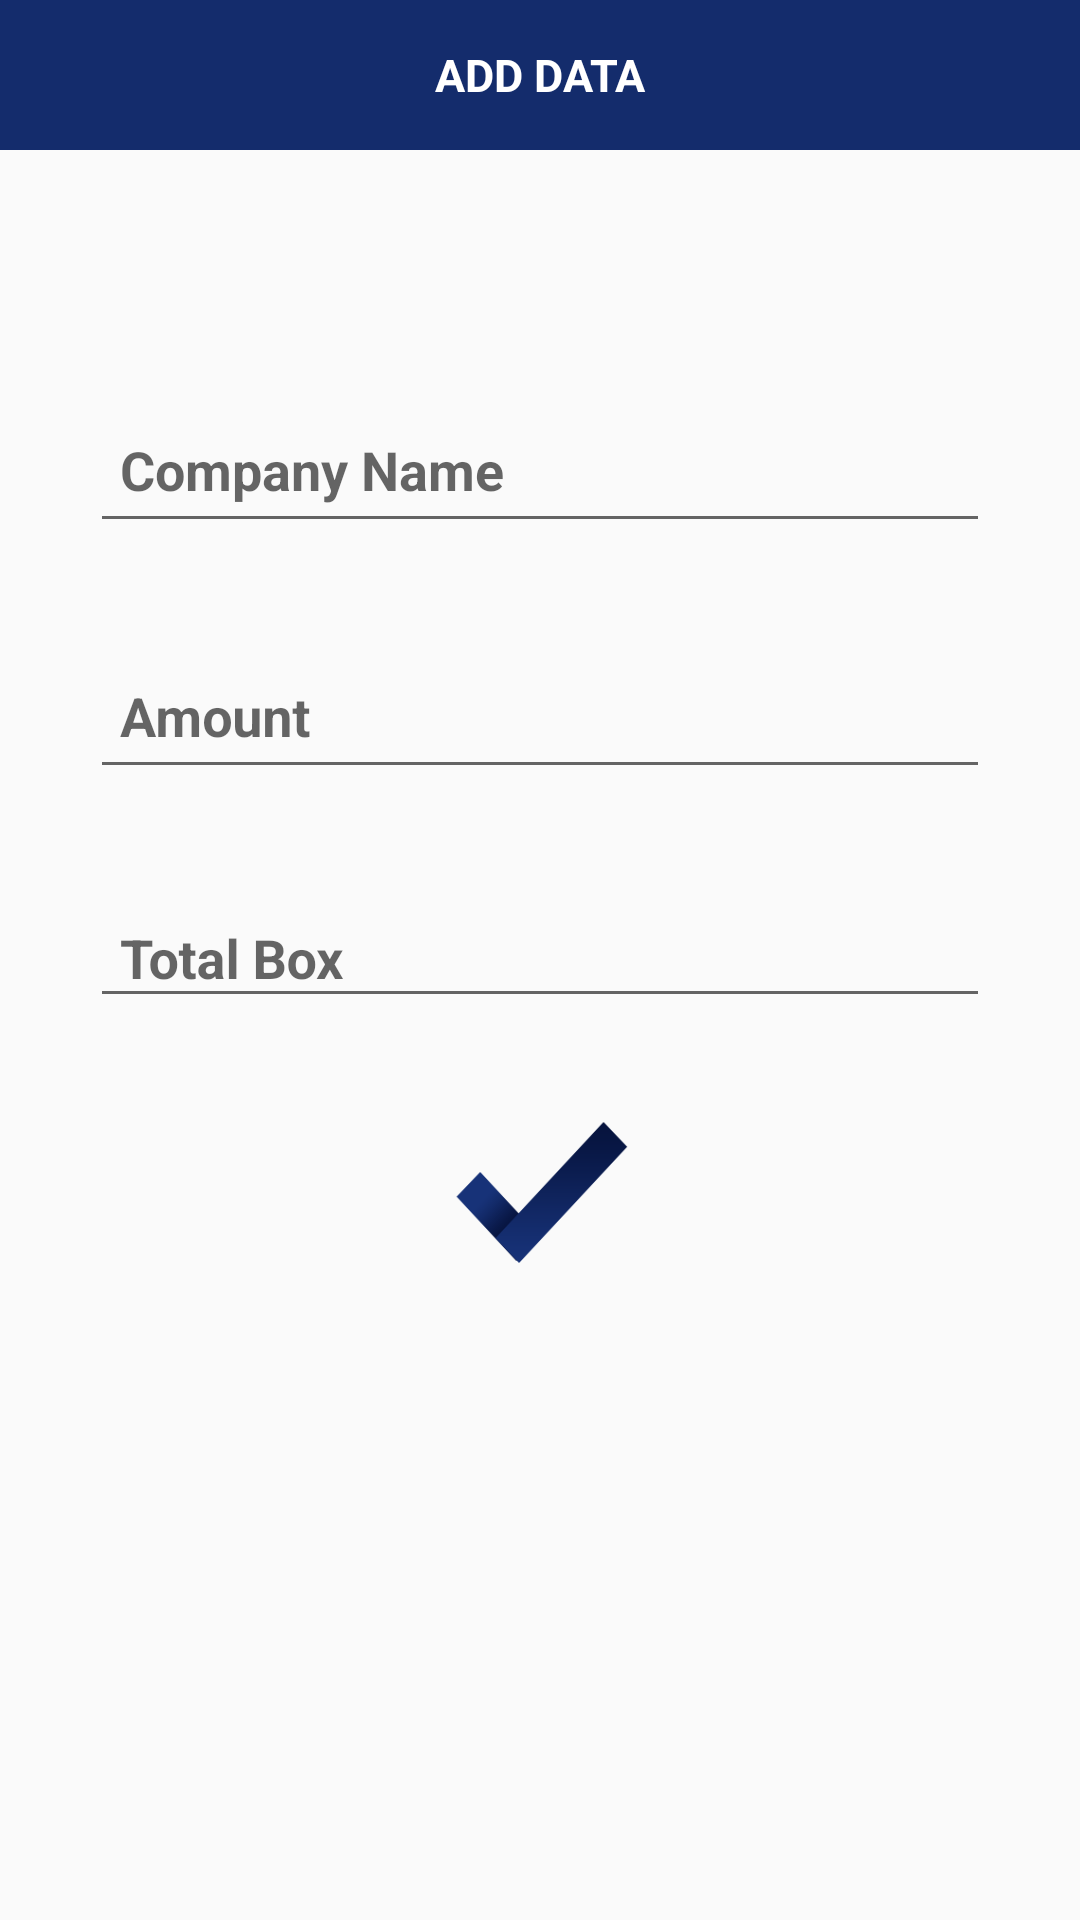

Icon bounding boxes for this 1080×1920 phone screenshot, format {"left": x1, "top": y1, "right": x2, "bottom": y2}:
done: {"left": 456, "top": 1122, "right": 627, "bottom": 1263}
